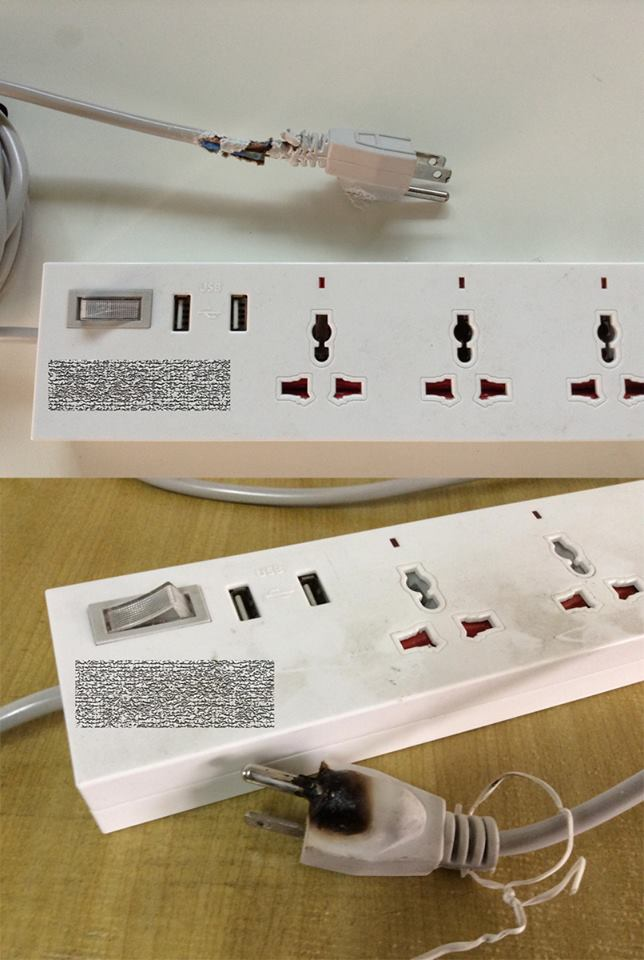Three_eye_plug: (40, 478, 644, 844), (25, 244, 644, 470)
